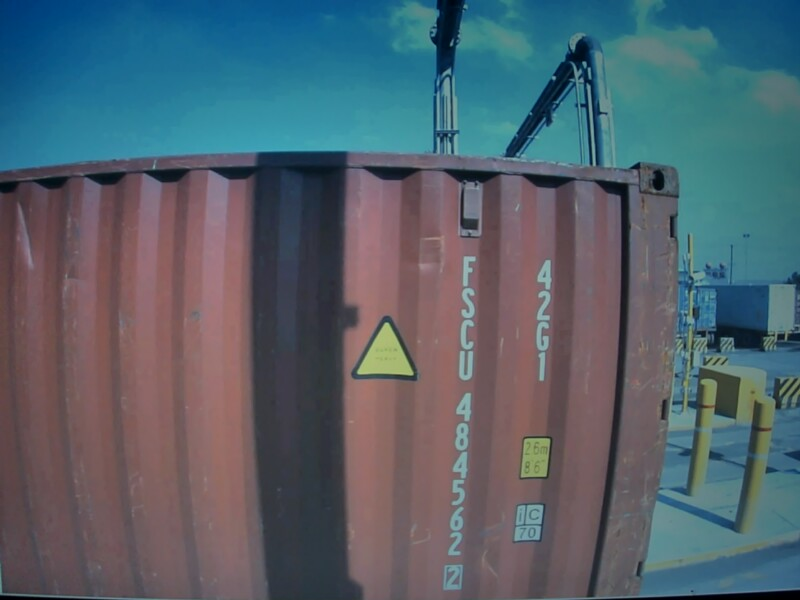container_no_door: (89, 156, 685, 600)
